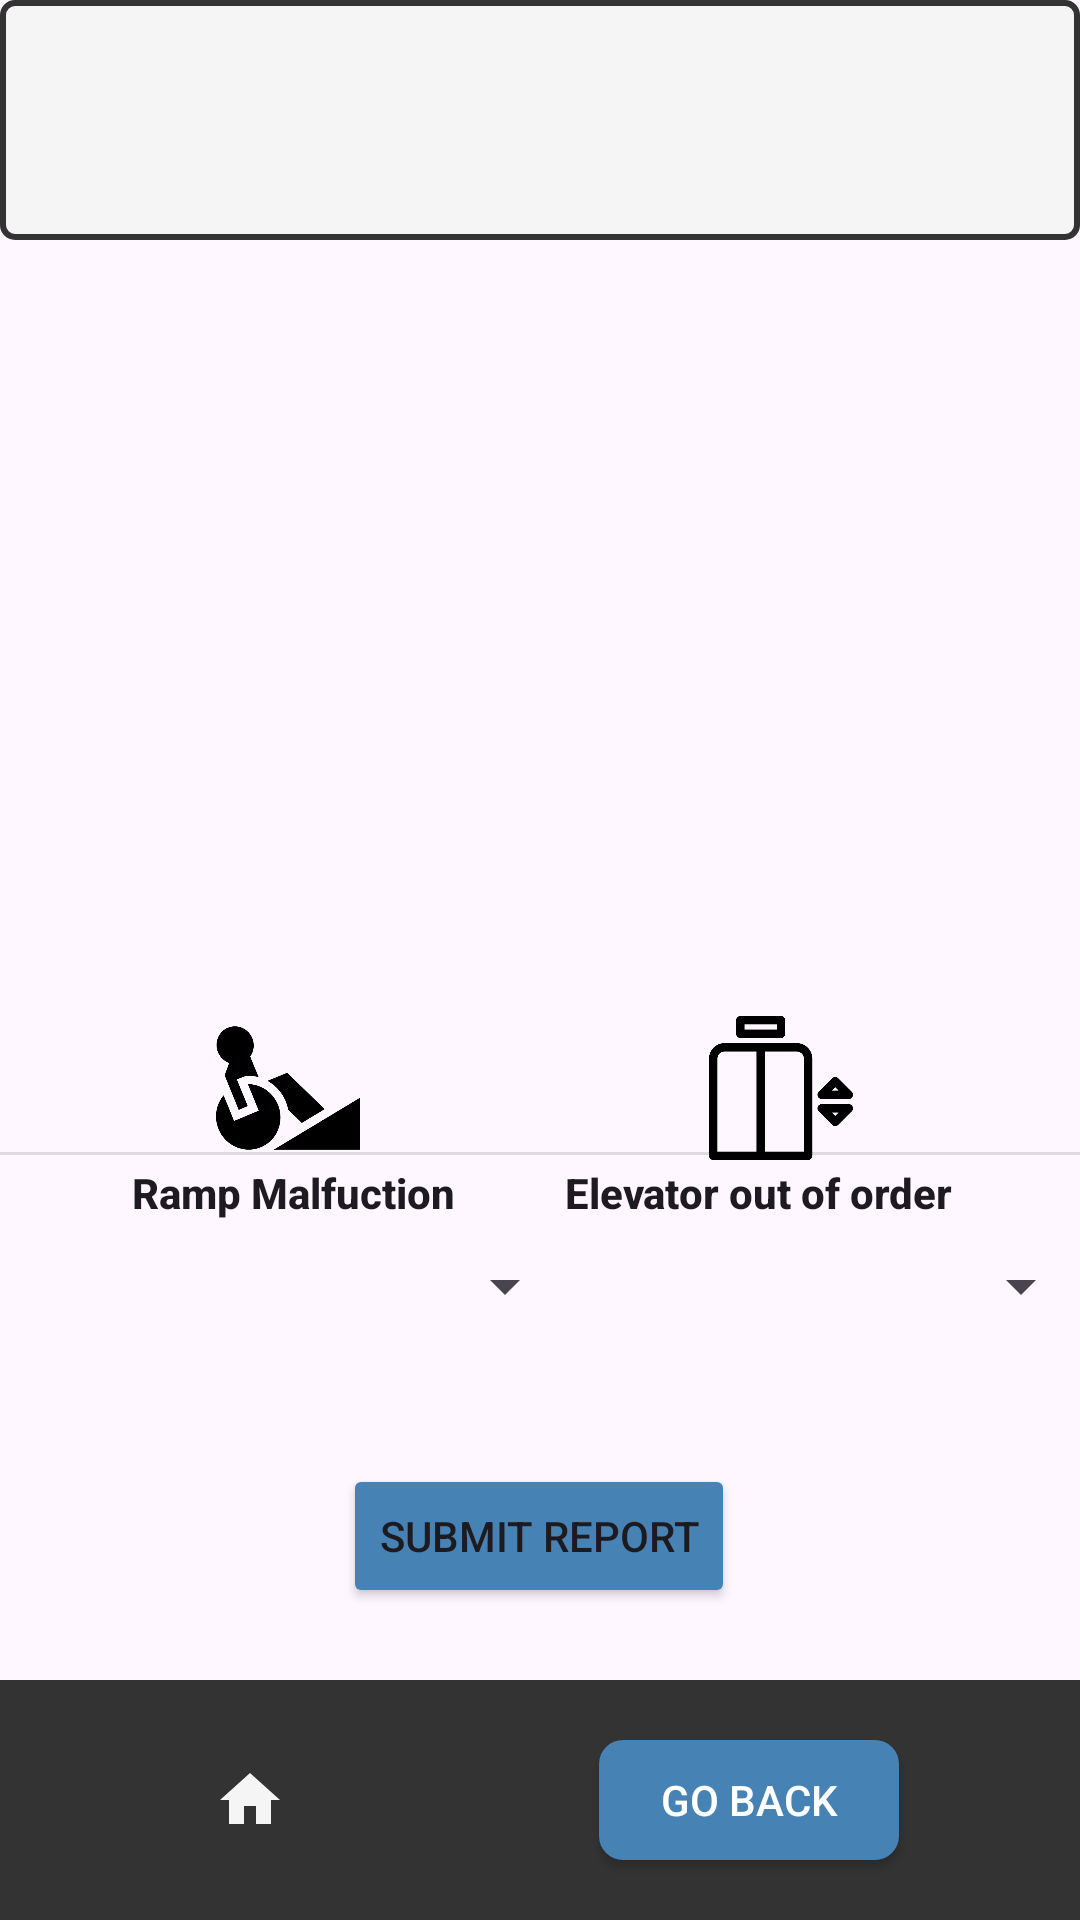

Where to tap for icons on this 1080x1920 app screen, as point (x, y):
home: point (250, 1798)
